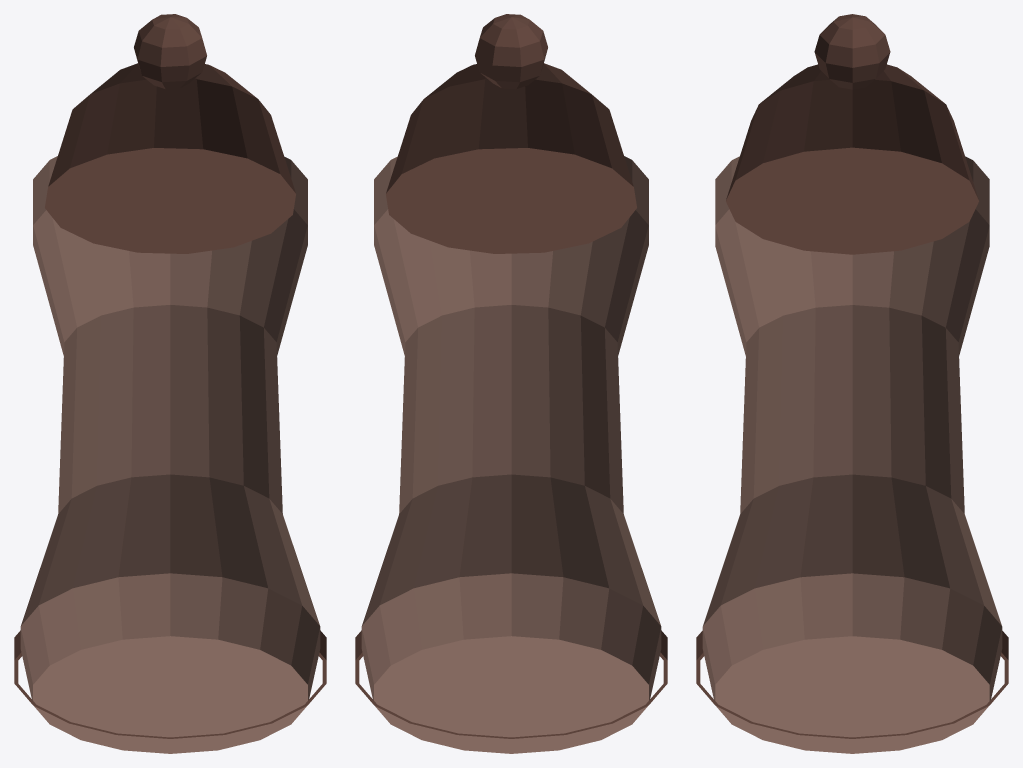
The model's file is pepparkvarn.glb.
3 renders of one model, left to right at view 1: azimuth 30°, elevation 25°; view 2: azimuth 150°, elevation 25°; view 3: azimuth 270°, elevation 25°, orthographic.
Parts seen in each view (by area): view 1: pepparkvarn; view 2: pepparkvarn; view 3: pepparkvarn.
Boxes of the visible parts, x1=… form: pepparkvarn: x1=14, y1=14, x2=326, y2=753; pepparkvarn: x1=355, y1=14, x2=667, y2=753; pepparkvarn: x1=696, y1=14, x2=1008, y2=753.
Size of the model in its own units: 0.25 by 0.59 by 0.2462.
